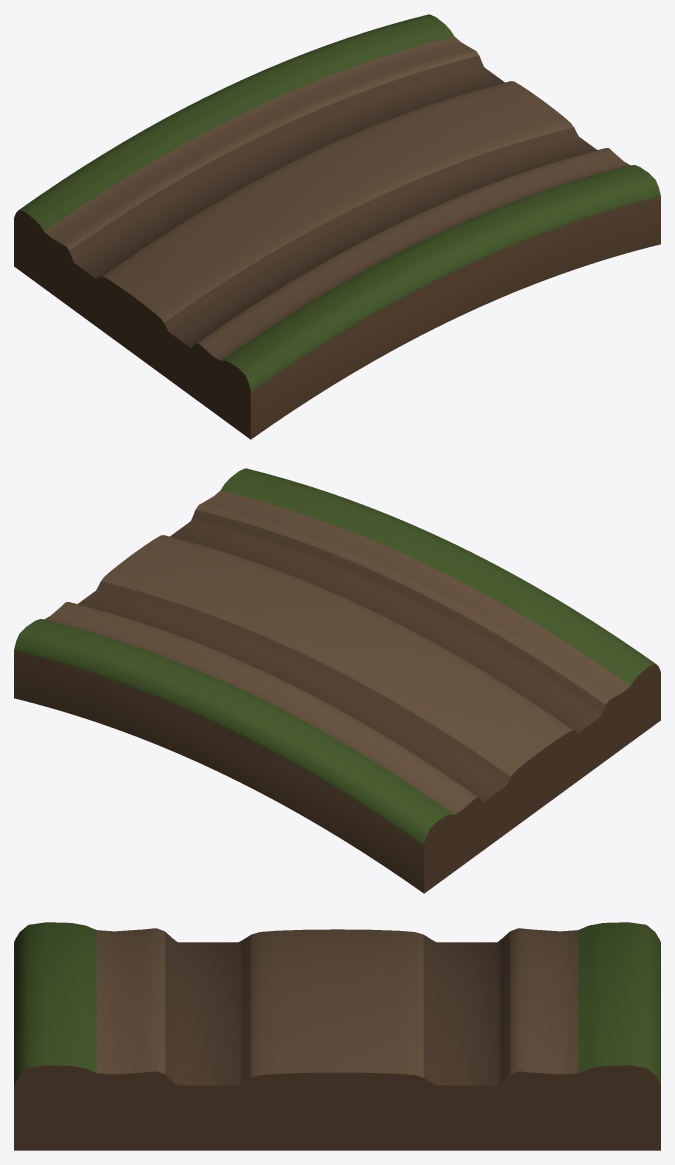
3 renders of one model, top to bottom at view 1: azimuth 30°, elevation 25°; view 2: azimuth 150°, elevation 25°; view 3: azimuth 270°, elevation 25°, orthographic. The views are drawn at different scales.
Visible parts, largest first — view 1: e2o; view 2: e2o; view 3: e2o.
Part boxes in pixels (x1,y1,x2,y2): e2o: (14, 14, 660, 439); e2o: (14, 468, 660, 893); e2o: (14, 922, 660, 1150).
Size of the model in its own units: 9 by 3.31 by 9.
